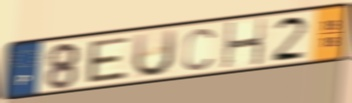2: (268, 15, 312, 62)
8: (44, 39, 82, 90)
C: (181, 26, 217, 73)
E: (87, 35, 132, 85)
H: (222, 16, 268, 71)
U: (130, 27, 179, 80)
